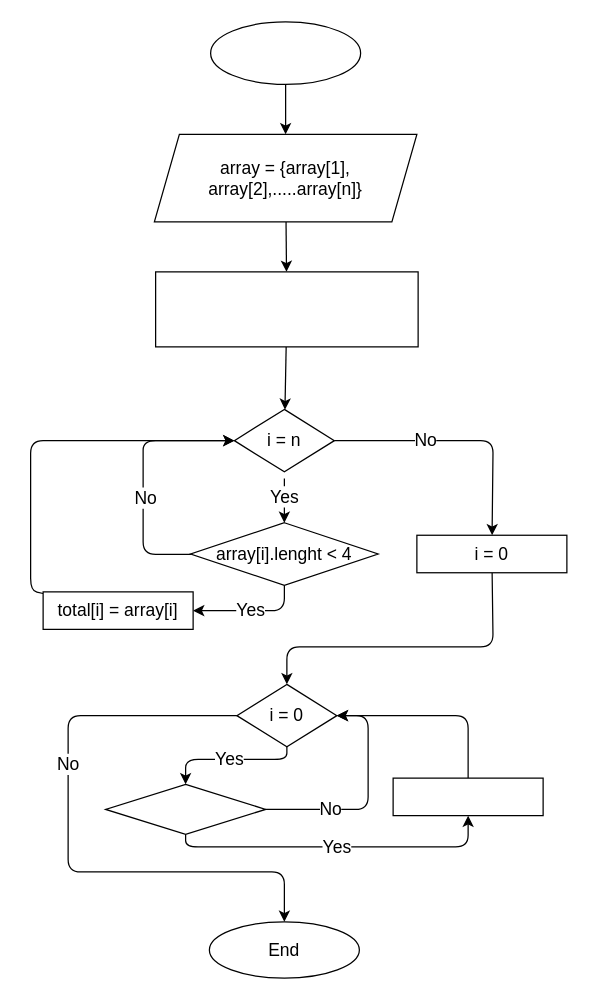
This 589x1000 diagram has some shape labels left out. The centre of each missing label's shape, as x and y in pixels:
"i = 0 total = {total[1], total[2],......total[n]}" goes at (286,309).
"Print(total[i])" goes at (467,796).
"Start" goes at (285,52).
"total[i] != 0" goes at (185,808).
